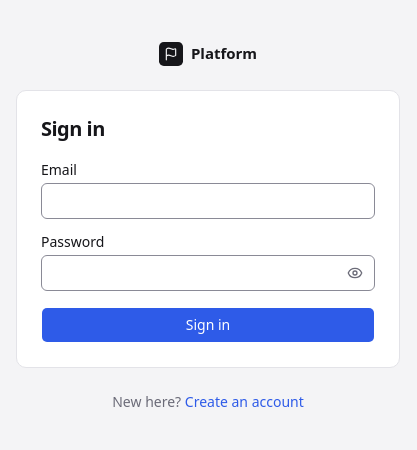
Test: sign in › checks the form before asking the server
Click the button "Sign in" at (208, 325), box [41,307,375,343]
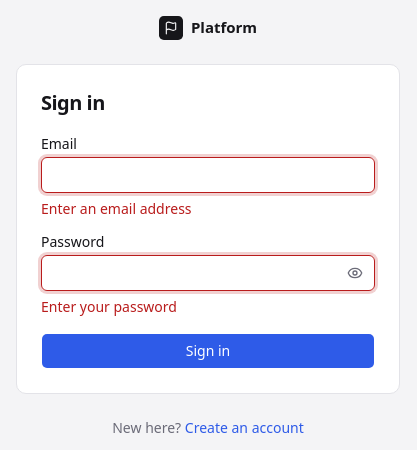
Check: the text "Enter an email address" is shown, box [41,199,192,218]
Check: the text "Enter your password" is shown, box [41,297,177,316]
